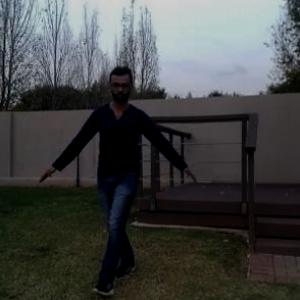land: (59, 65, 184, 280)
